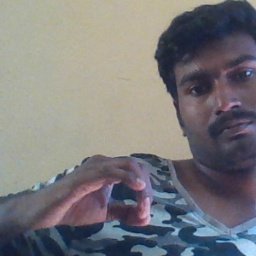O: (45, 153, 156, 236)
